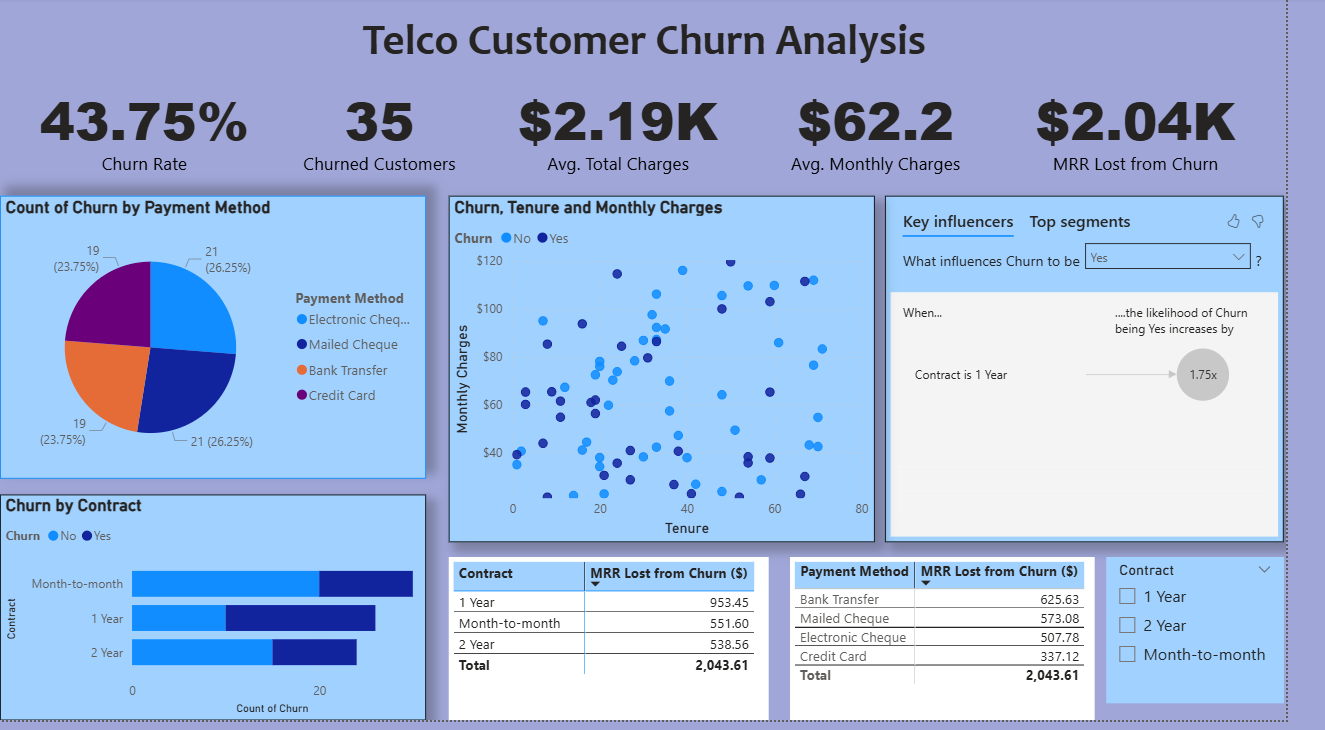

Layout of this report page (visuals, bound fields, positions):
{"tool":"powerbi","page":{"name":"Page 1","canvas":[1280,720],"ordinal":0},"visuals":[{"type":"keyDriversVisual","fields":{"Target":["telco_customer_churn_80rows.Churn"],"ExplainBy":["Telco Customers Churn.Contract"]},"box":[880.9,197.5,396.7,344.9],"z":0},{"type":"card","fields":{"Values":["Telco Customers Churn.Churn Rate"]},"box":[27.5,66.4,233.2,131.2],"z":1000},{"type":"barChart","title":"Churn by Contract","fields":{"Category":["Telco Customers Churn.Contract"],"Y":["CountNonNull(Telco Customers Churn.Churn)"],"Series":["Telco Customers Churn.Churn"]},"box":[0,495.5,424.2,225.1],"z":2000},{"type":"scatterChart","fields":{"X":["Telco Customers Churn.Tenure"],"Y":["Telco Customers Churn.Monthly Charges"],"Series":["Telco Customers Churn.Churn"]},"box":[446.9,197.5,424.2,344.9],"z":3000},{"type":"pieChart","fields":{"Category":["Telco Customers Churn.Payment Method"],"Y":["CountNonNull(Telco Customers Churn.Churn)"]},"box":[0,197.5,424.2,281.7],"z":4000},{"type":"textbox","box":[212.1,11.3,856.6,66.4],"z":5000},{"type":"card","fields":{"Values":["Avg(Telco Customers Churn.Monthly Charges)"]},"box":[754.6,66.4,233.2,131.2],"z":6000},{"type":"card","fields":{"Values":["Avg(Telco Customers Churn.TotalCharges)"]},"box":[498.7,66.4,233.2,131.2],"z":7000},{"type":"slicer","fields":{"Values":["Telco Customers Churn.Contract"]},"box":[1101.1,557,176.5,145.7],"z":8000},{"type":"card","fields":{"Values":["Telco Customers Churn.Churned Customers"]},"box":[260.7,66.4,233.2,131.2],"z":9000},{"type":"card","fields":{"Values":["Telco Customers Churn.MRR Lost from Churn"]},"box":[1013.6,66.4,233.2,131.2],"z":10000},{"type":"pivotTable","fields":{"Values":["Telco Customers Churn.MRR Lost from Churn"],"Rows":["Telco Customers Churn.Contract"]},"box":[446.6,557.3,318.5,163],"z":11000},{"type":"pivotTable","fields":{"Values":["Telco Customers Churn.MRR Lost from Churn"],"Rows":["Telco Customers Churn.Payment Method"]},"box":[786.2,557.3,303.5,163],"z":12000}]}

Visuals, with their boxes in screenshot pixels (x1, y1, x2, y2), scaled from the page's 1280x720 canvas onto the 1325x730 screenshot:
keyDriversVisual - telco_customer_churn_80rows.Churn x Telco Customers Churn.Contract: (912, 200, 1323, 550)
card - Telco Customers Churn.Churn Rate: (28, 67, 270, 200)
"Churn by Contract" barChart: (0, 502, 439, 729)
scatterChart - Telco Customers Churn.Tenure x Telco Customers Churn.Monthly Charges: (463, 200, 902, 550)
pieChart - Telco Customers Churn.Payment Method x CountNonNull(Telco Customers Churn.Churn): (0, 200, 439, 486)
textbox: (220, 11, 1106, 79)
card - Avg(Telco Customers Churn.Monthly Charges): (781, 67, 1023, 200)
card - Avg(Telco Customers Churn.TotalCharges): (516, 67, 758, 200)
slicer - Telco Customers Churn.Contract: (1140, 565, 1323, 712)
card - Telco Customers Churn.Churned Customers: (270, 67, 511, 200)
card - Telco Customers Churn.MRR Lost from Churn: (1049, 67, 1291, 200)
pivotTable - Telco Customers Churn.MRR Lost from Churn x Telco Customers Churn.Contract: (462, 565, 792, 729)
pivotTable - Telco Customers Churn.MRR Lost from Churn x Telco Customers Churn.Payment Method: (814, 565, 1128, 729)
